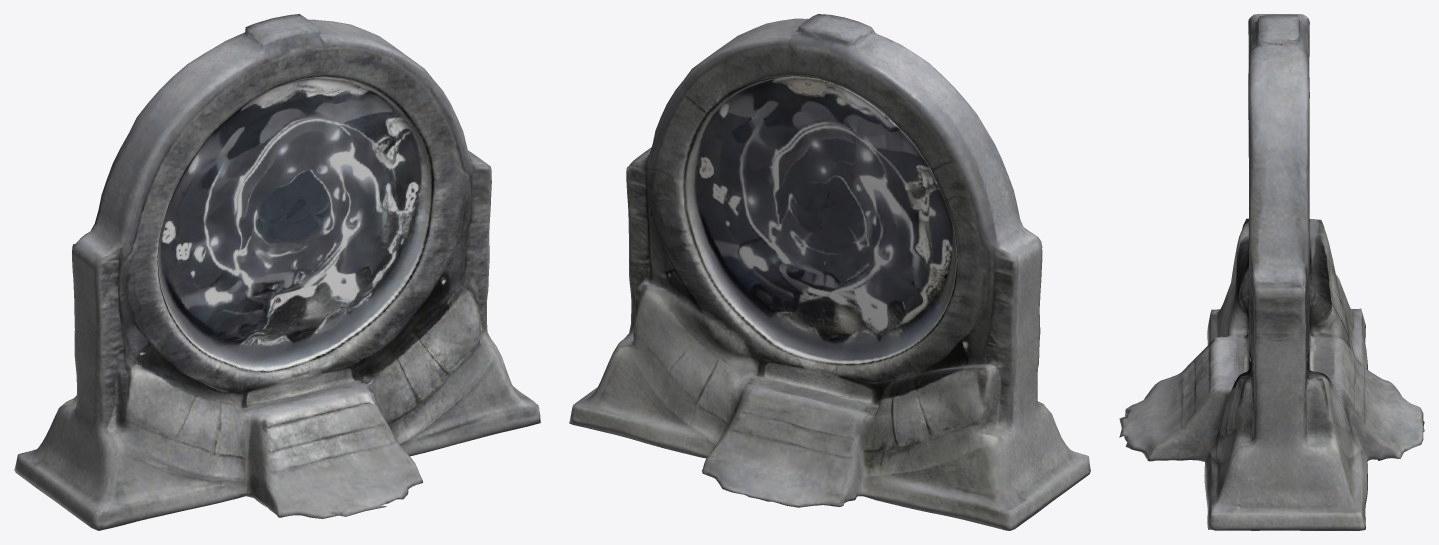
File: portal.glb
3 views of the same model, side by side, from view 1: azimuth 30°, elevation 25°; view 2: azimuth 150°, elevation 25°; view 3: azimuth 270°, elevation 25° (orthographic). The views are drawn at different scales.
Parts seen in each view (by area): view 1: Gateway_Portal_0122105219_texture; view 2: Gateway_Portal_0122105219_texture; view 3: Gateway_Portal_0122105219_texture.
Boxes of the visible parts, x1=… form: Gateway_Portal_0122105219_texture: x1=14, y1=14, x2=540, y2=530; Gateway_Portal_0122105219_texture: x1=569, y1=14, x2=1090, y2=530; Gateway_Portal_0122105219_texture: x1=1119, y1=14, x2=1424, y2=530.
Size of the model in its own units: 2 by 1.81 by 1.24.
1 material, 1 textured.
